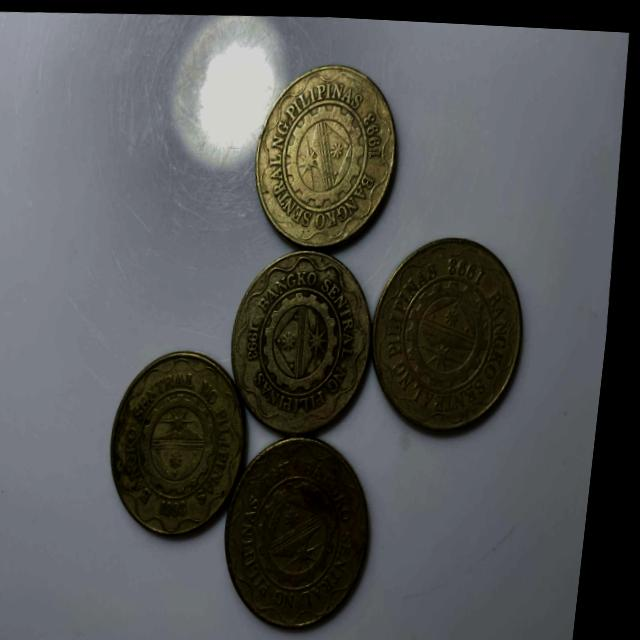5_Old_Back: (229, 430, 383, 628), (380, 235, 532, 429), (108, 349, 259, 538), (251, 59, 404, 243), (231, 246, 383, 431)
